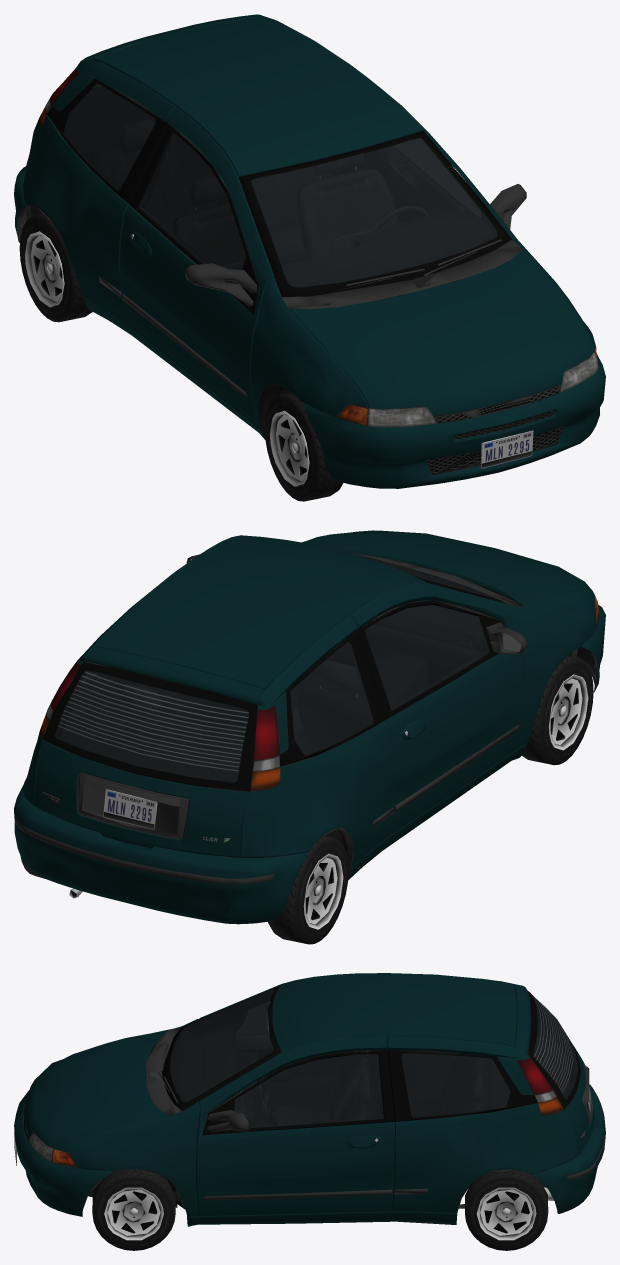
Rendered from realcar.glb.
The picture shows the model from 3 angles, top to bottom: view 1: azimuth 30°, elevation 25°; view 2: azimuth 150°, elevation 25°; view 3: azimuth 270°, elevation 25°; orthographic projection. The views are drawn at different scales.
Parts seen in each view (by area): view 1: Milano95_Body_Milano95_Bodymat_0, Milano95_Headlights_Glass_UCB_Lights_and_Glass_Transperent_0, Milano95_interior_UCB_Interiors_2_0, Milano95_Suspension_UCB_BOTTOM_0, Milano95_WheelStock_FL_RB1c_Tire_1k_0, Milano95_Headlights_UCB_Lights_and_Glass_0, Milano95_Numberplates_Rear_Numberplates_Misk_U_0; view 2: Milano95_Body_Milano95_Bodymat_0, Milano95_Headlights_Glass_UCB_Lights_and_Glass_Transperent_0, Milano95_interior_UCB_Interiors_2_0, Milano95_Suspension_UCB_BOTTOM_0, Milano95_WheelStock_FL_RB1c_Tire_1k_0, Milano95_Headlights_UCB_Lights_and_Glass_0, Milano95_Numberplates_Rear_Numberplates_Misk_U_0; view 3: Milano95_Body_Milano95_Bodymat_0, Milano95_Headlights_Glass_UCB_Lights_and_Glass_Transperent_0, Milano95_interior_UCB_Interiors_2_0, Milano95_Suspension_UCB_BOTTOM_0, Milano95_WheelStock_FL_RB1c_Tire_1k_0, Milano95_Headlights_UCB_Lights_and_Glass_0.
Part boxes in pixels (left/top/right/bottom): Milano95_Body_Milano95_Bodymat_0: left=14, top=14, right=605, bottom=488; Milano95_Headlights_Glass_UCB_Lights_and_Glass_Transperent_0: left=39, top=69, right=598, bottom=427; Milano95_interior_UCB_Interiors_2_0: left=55, top=84, right=496, bottom=387; Milano95_Suspension_UCB_BOTTOM_0: left=17, top=78, right=598, bottom=488; Milano95_WheelStock_FL_RB1c_Tire_1k_0: left=19, top=213, right=343, bottom=501; Milano95_Headlights_UCB_Lights_and_Glass_0: left=39, top=70, right=597, bottom=426; Milano95_Numberplates_Rear_Numberplates_Misk_U_0: left=480, top=430, right=533, bottom=468; Milano95_Body_Milano95_Bodymat_0: left=14, top=530, right=605, bottom=924; Milano95_Headlights_Glass_UCB_Lights_and_Glass_Transperent_0: left=39, top=547, right=598, bottom=791; Milano95_interior_UCB_Interiors_2_0: left=55, top=560, right=499, bottom=839; Milano95_Suspension_UCB_BOTTOM_0: left=14, top=551, right=598, bottom=924; Milano95_WheelStock_FL_RB1c_Tire_1k_0: left=20, top=655, right=593, bottom=944; Milano95_Headlights_UCB_Lights_and_Glass_0: left=40, top=597, right=598, bottom=790; Milano95_Numberplates_Rear_Numberplates_Misk_U_0: left=103, top=789, right=157, bottom=829; Milano95_Body_Milano95_Bodymat_0: left=14, top=973, right=605, bottom=1226; Milano95_Headlights_Glass_UCB_Lights_and_Glass_Transperent_0: left=28, top=989, right=578, bottom=1167; Milano95_interior_UCB_Interiors_2_0: left=171, top=989, right=577, bottom=1200; Milano95_Suspension_UCB_BOTTOM_0: left=23, top=985, right=605, bottom=1224; Milano95_WheelStock_FL_RB1c_Tire_1k_0: left=92, top=1169, right=548, bottom=1250; Milano95_Headlights_UCB_Lights_and_Glass_0: left=29, top=991, right=563, bottom=1166.
Bounding box in the file's own units: 1.95 × 1.45 × 3.9.
8 materials, 7 textured.
